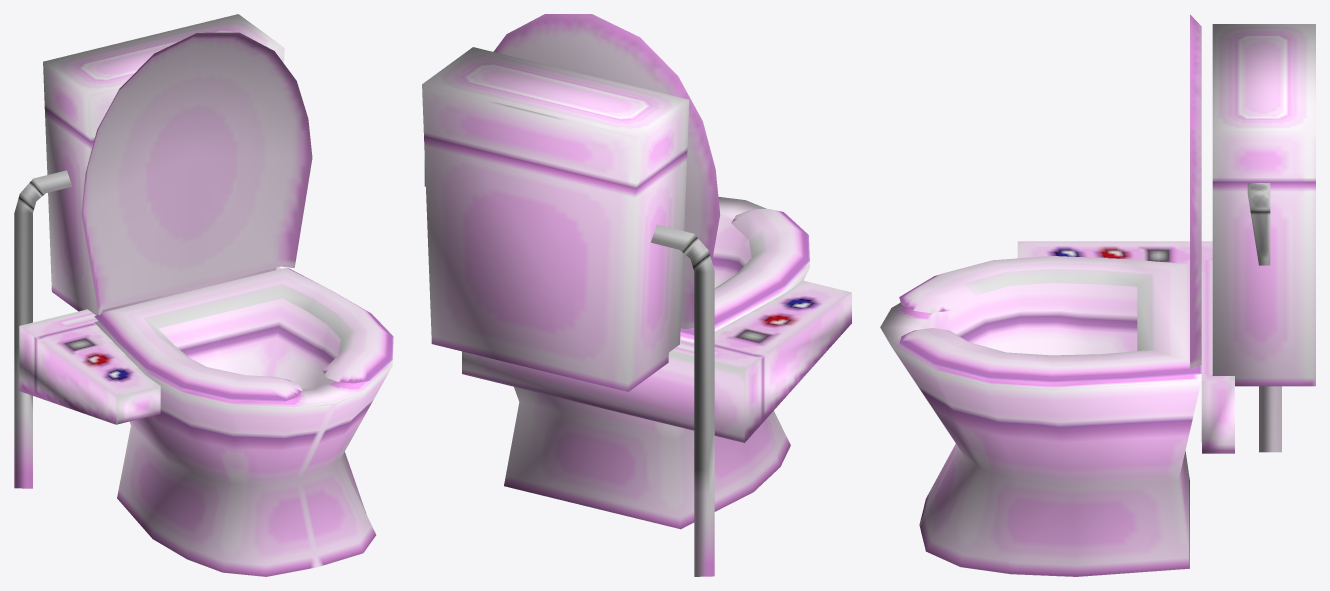
Rendered from rmk_oth_wc1.dae.
3 views of the same model, side by side, from view 1: azimuth 30°, elevation 25°; view 2: azimuth 150°, elevation 25°; view 3: azimuth 270°, elevation 25° (orthographic). The views are drawn at different scales.
Parts seen in each view (by area): view 1: rmk_oth_wc1; view 2: rmk_oth_wc1; view 3: rmk_oth_wc1.
Boxes of the visible parts, x1,y1,x2,y2 form: rmk_oth_wc1: (14, 14, 393, 576); rmk_oth_wc1: (422, 14, 851, 576); rmk_oth_wc1: (880, 14, 1315, 576).
Bounding box in the file's own units: 24.6 × 38.37 × 30.35.
2 materials, 2 textured.
